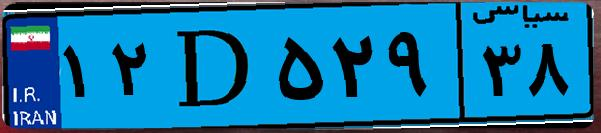1: (57, 26, 110, 100)
2: (330, 28, 385, 110), (110, 28, 158, 98)
3: (475, 38, 525, 113)
5: (270, 28, 330, 110)
8: (525, 38, 570, 115)
9: (385, 28, 445, 110)
D: (158, 12, 270, 120)
